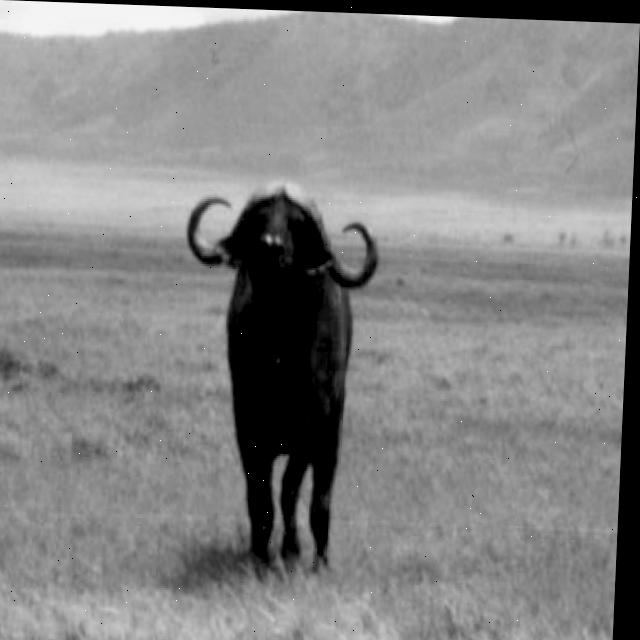Buffalo: (172, 176, 384, 590)
